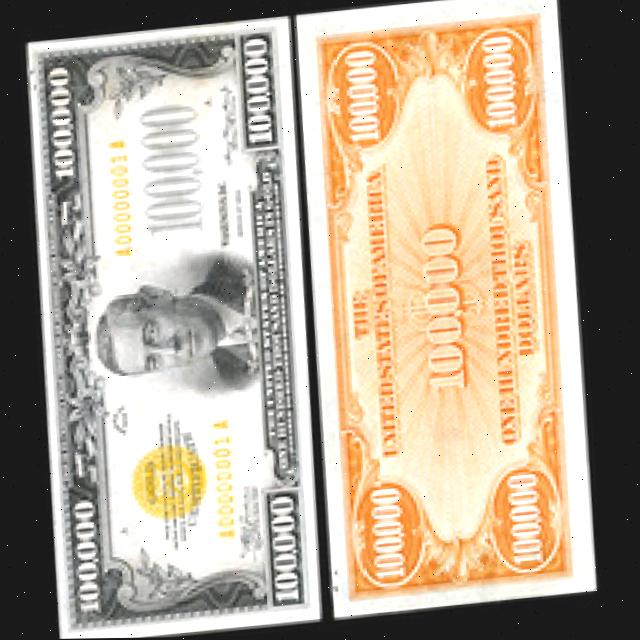banknote: (8, 14, 341, 640), (278, 0, 611, 621)
